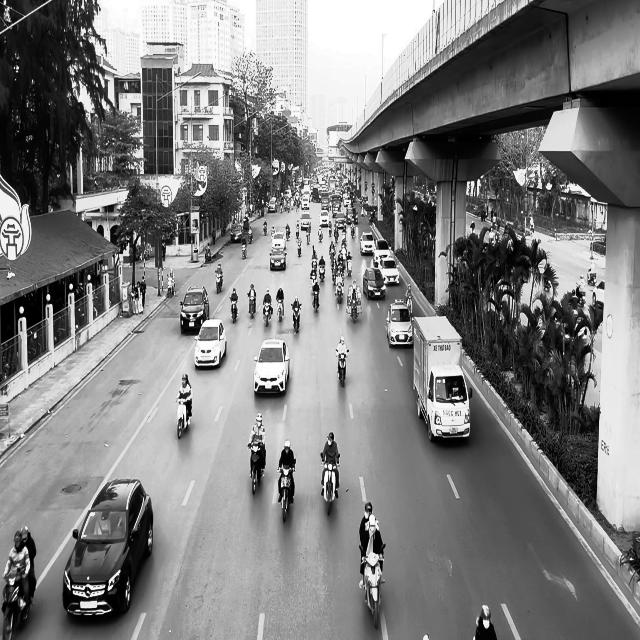car: (62, 477, 153, 618), (253, 338, 290, 395), (194, 319, 227, 369), (180, 285, 210, 334), (386, 300, 413, 348), (362, 268, 386, 300), (270, 247, 286, 270), (592, 280, 604, 308)
motorbike: (359, 542, 385, 628), (1, 567, 32, 639), (320, 452, 340, 515), (278, 464, 296, 522), (248, 442, 264, 494), (176, 396, 192, 438), (335, 349, 349, 386), (291, 304, 301, 333), (229, 296, 238, 323), (311, 286, 320, 313), (263, 301, 272, 327), (276, 298, 284, 322), (215, 272, 223, 293), (241, 242, 247, 260), (205, 248, 212, 263)
truck: (412, 314, 472, 442)
